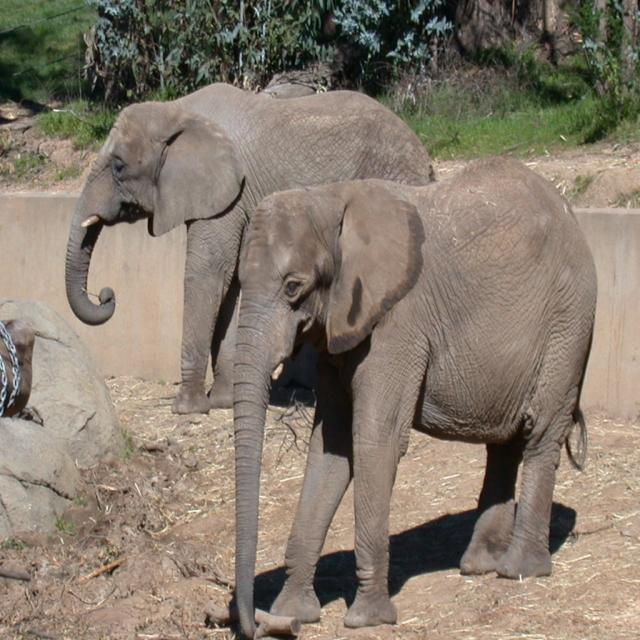elephant: (58, 81, 458, 428)
